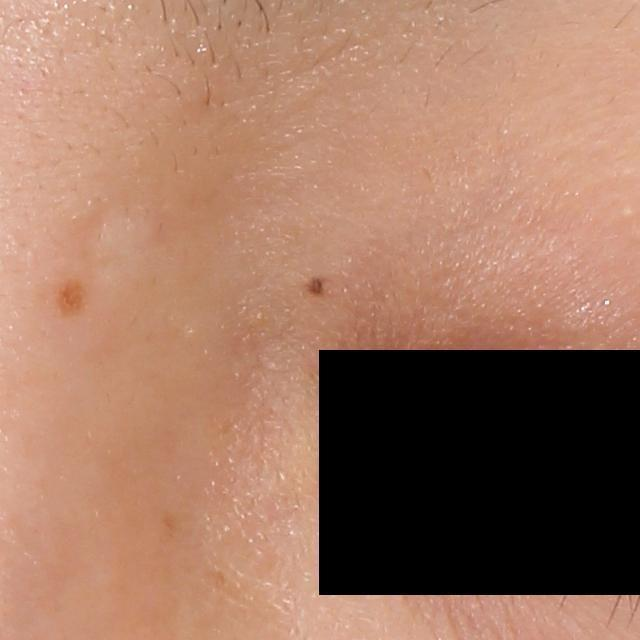nevus: (52, 272, 91, 323), (306, 274, 324, 297)
